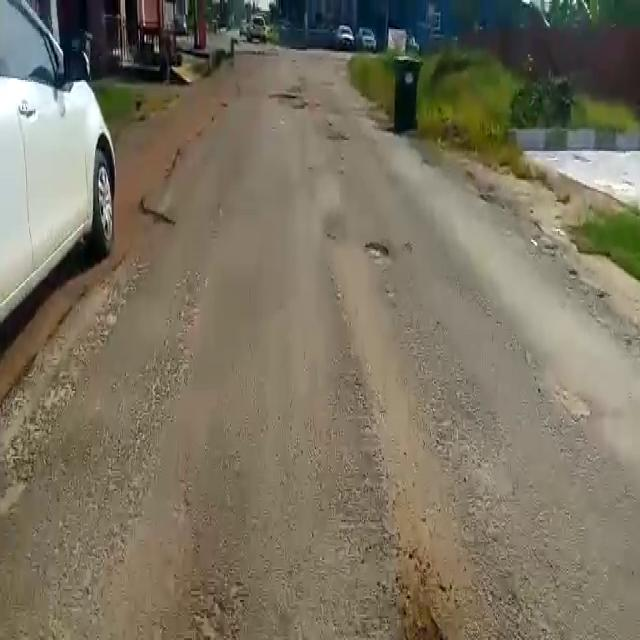Pothole: (363, 238, 398, 264)
